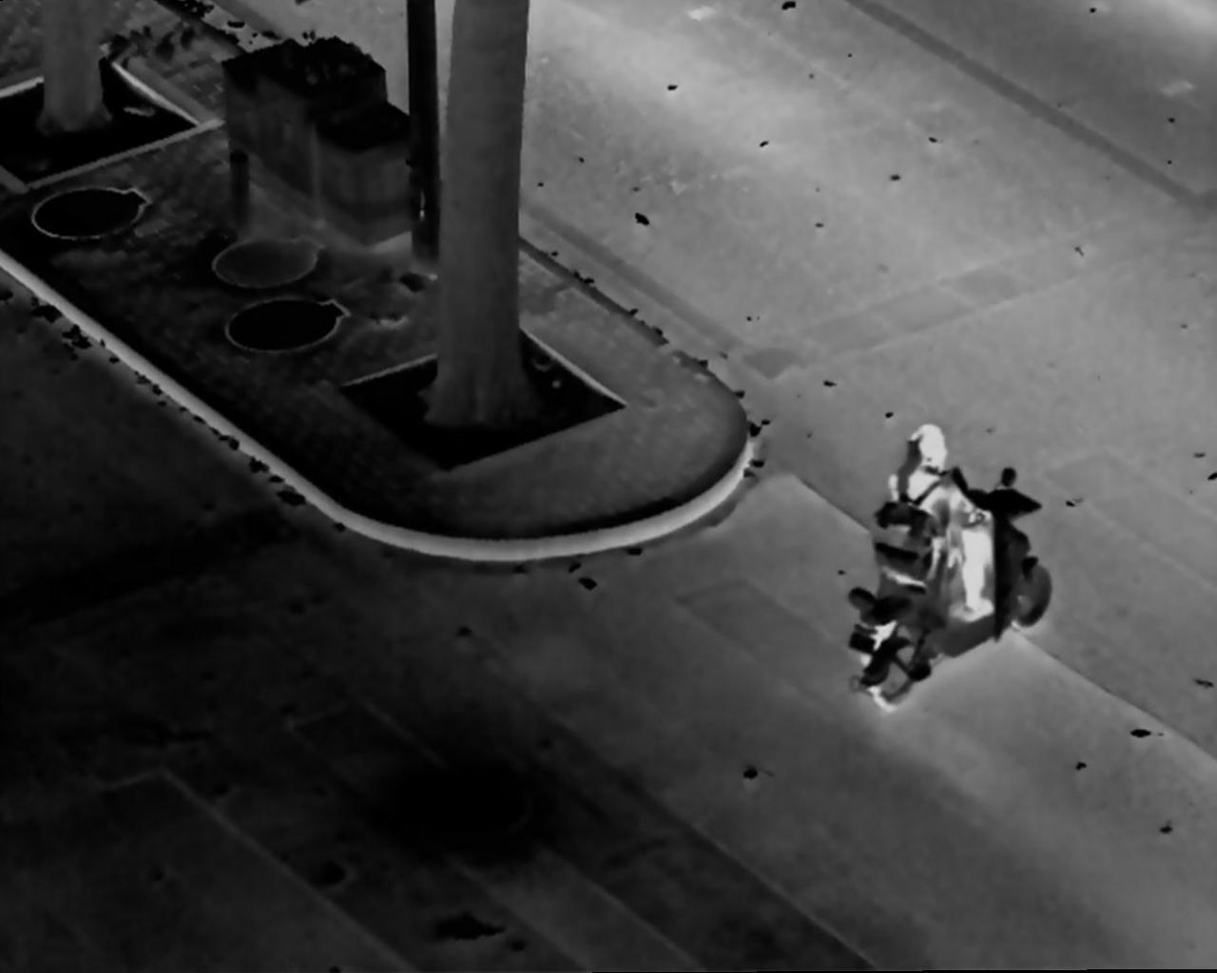person: (888, 422, 1008, 640)
